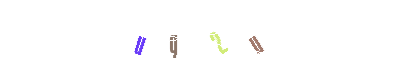2: (173, 0, 253, 80)
Q: (165, 0, 245, 80)
U: (99, 0, 179, 80), (178, 0, 258, 80)
